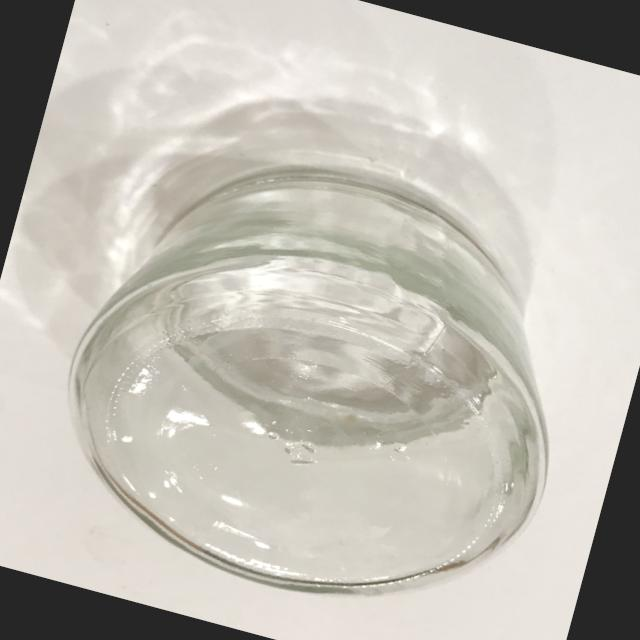Glass: (15, 100, 622, 640)
